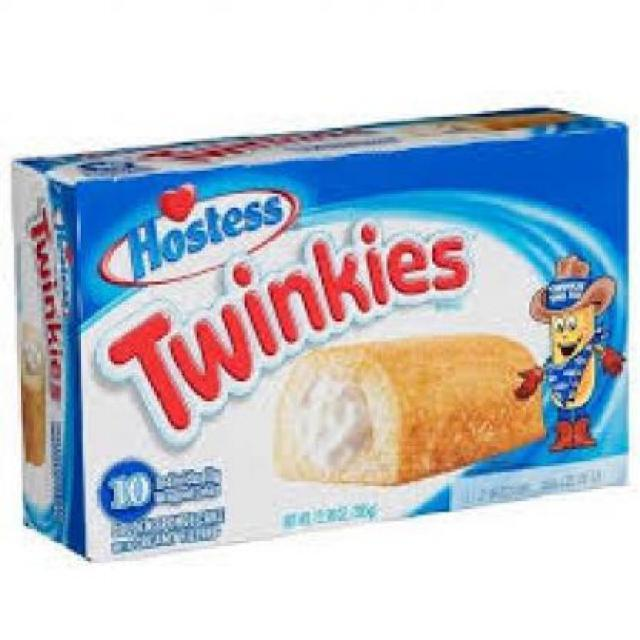Merendine: (12, 111, 638, 564)
